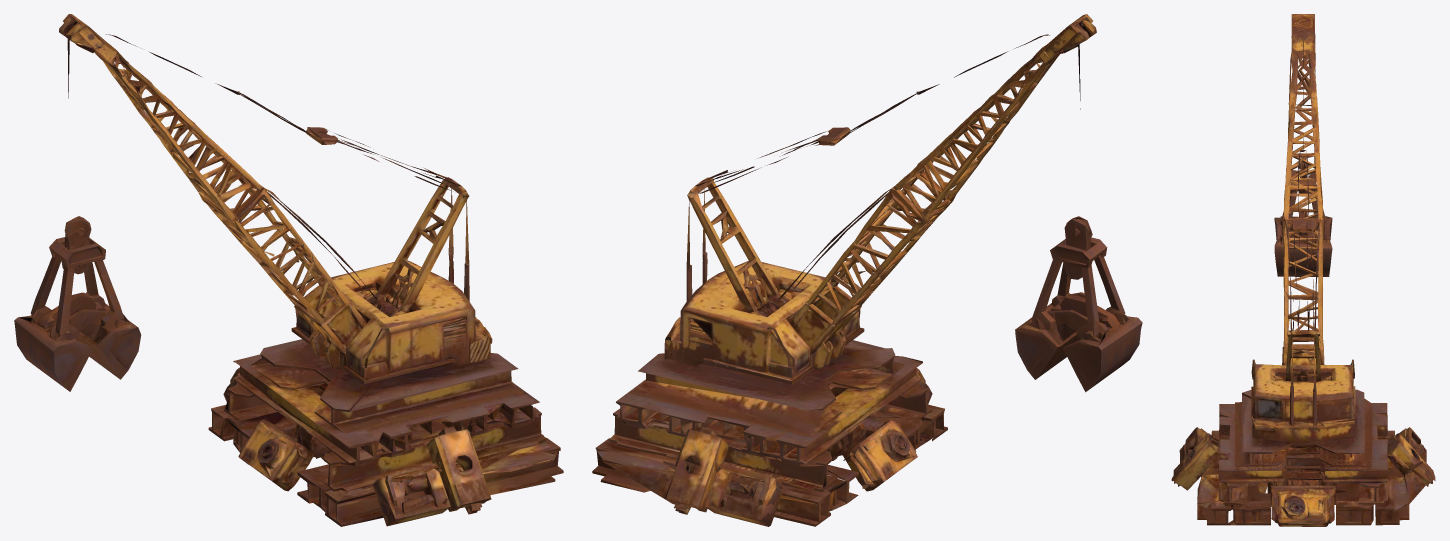
Rendered from crane.glb.
The picture shows the model from 3 angles, left to right: view 1: azimuth 30°, elevation 25°; view 2: azimuth 150°, elevation 25°; view 3: azimuth 270°, elevation 25°; orthographic projection. The views are drawn at different scales.
Size of the model in its own units: 1.9 by 1.9 by 1.25.
Materials: 1 (1 with a texture image).
